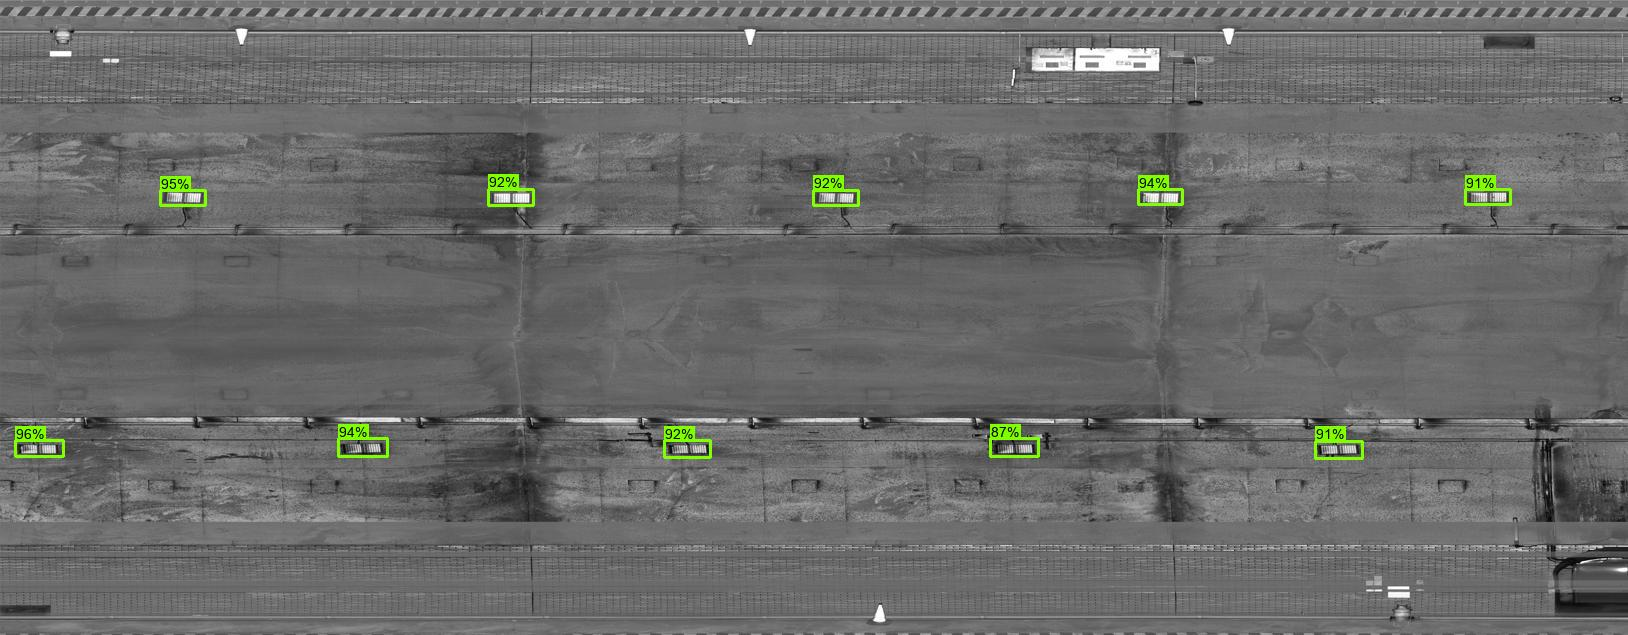light: (337, 435, 386, 460), (489, 186, 538, 211), (663, 437, 712, 462), (810, 185, 859, 210), (989, 437, 1038, 462), (1135, 185, 1184, 210), (1314, 437, 1363, 462), (1462, 186, 1511, 211), (13, 436, 60, 458), (160, 186, 206, 208)
